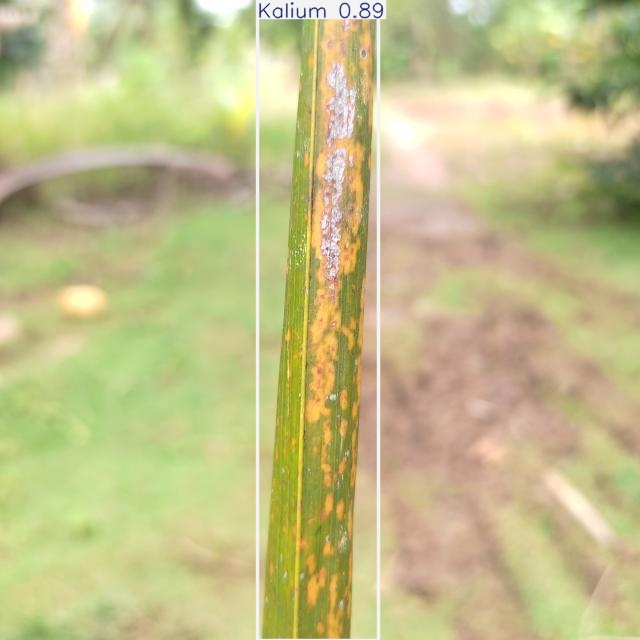Kalium: (257, 0, 378, 640)
